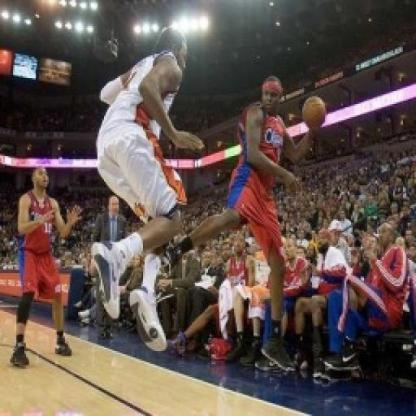basketball: (302, 95, 327, 129)
